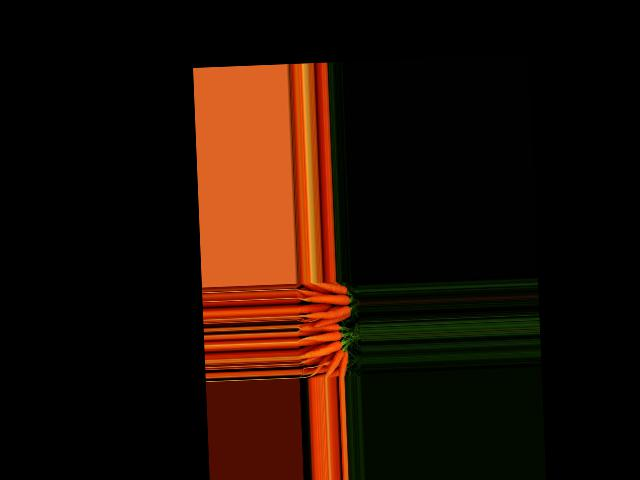carrot: (298, 291, 349, 308)
